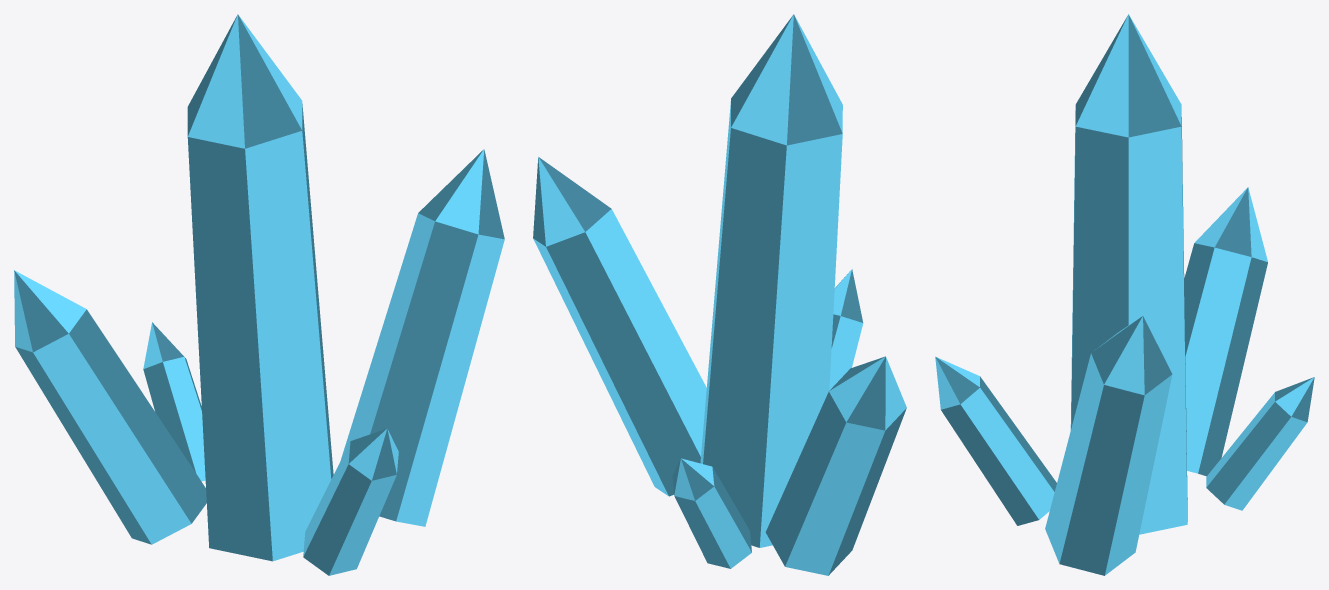
The model's file is dk_crystal.glb.
The picture shows the model from 3 angles, left to right: view 1: azimuth 30°, elevation 25°; view 2: azimuth 150°, elevation 25°; view 3: azimuth 270°, elevation 25°; orthographic projection. The views are drawn at different scales.
Parts seen in each view (by area): view 1: dk_crystal; view 2: dk_crystal; view 3: dk_crystal.
Part boxes in pixels (x1=…): dk_crystal: x1=14, y1=14, x2=504, y2=575; dk_crystal: x1=533, y1=14, x2=906, y2=575; dk_crystal: x1=935, y1=14, x2=1314, y2=575.
Size of the model in its own units: 2.1 by 2.56 by 1.79.
Materials: 1 (1 with a texture image).
